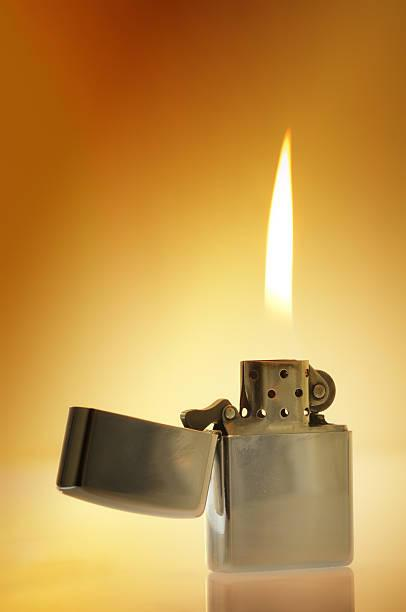Fire: (256, 119, 302, 353)
